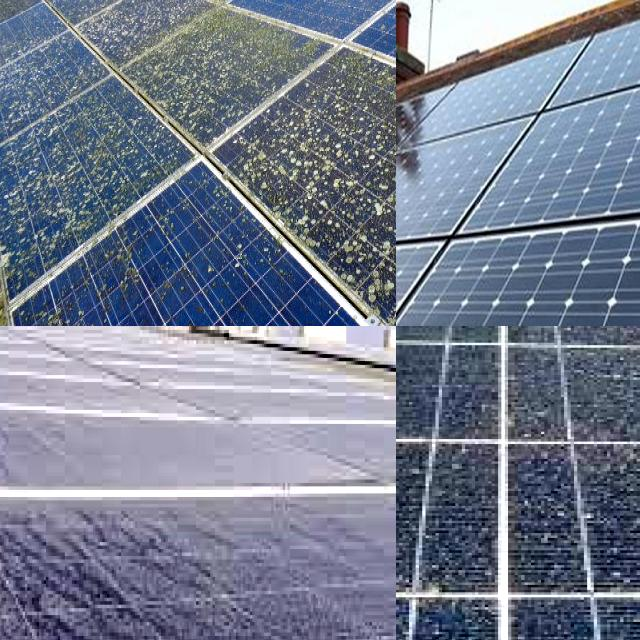crack: (482, 37, 640, 273), (396, 208, 640, 326), (410, 24, 590, 160), (396, 98, 547, 251), (396, 67, 473, 171)
dust: (423, 463, 640, 606), (76, 180, 254, 308), (46, 521, 205, 640), (462, 326, 637, 422), (239, 513, 396, 620), (0, 40, 90, 212), (448, 368, 638, 440), (140, 8, 224, 146), (396, 451, 472, 587), (294, 152, 396, 243), (0, 512, 63, 640), (293, 82, 396, 154), (0, 0, 177, 40), (396, 326, 470, 412), (0, 499, 35, 640)
